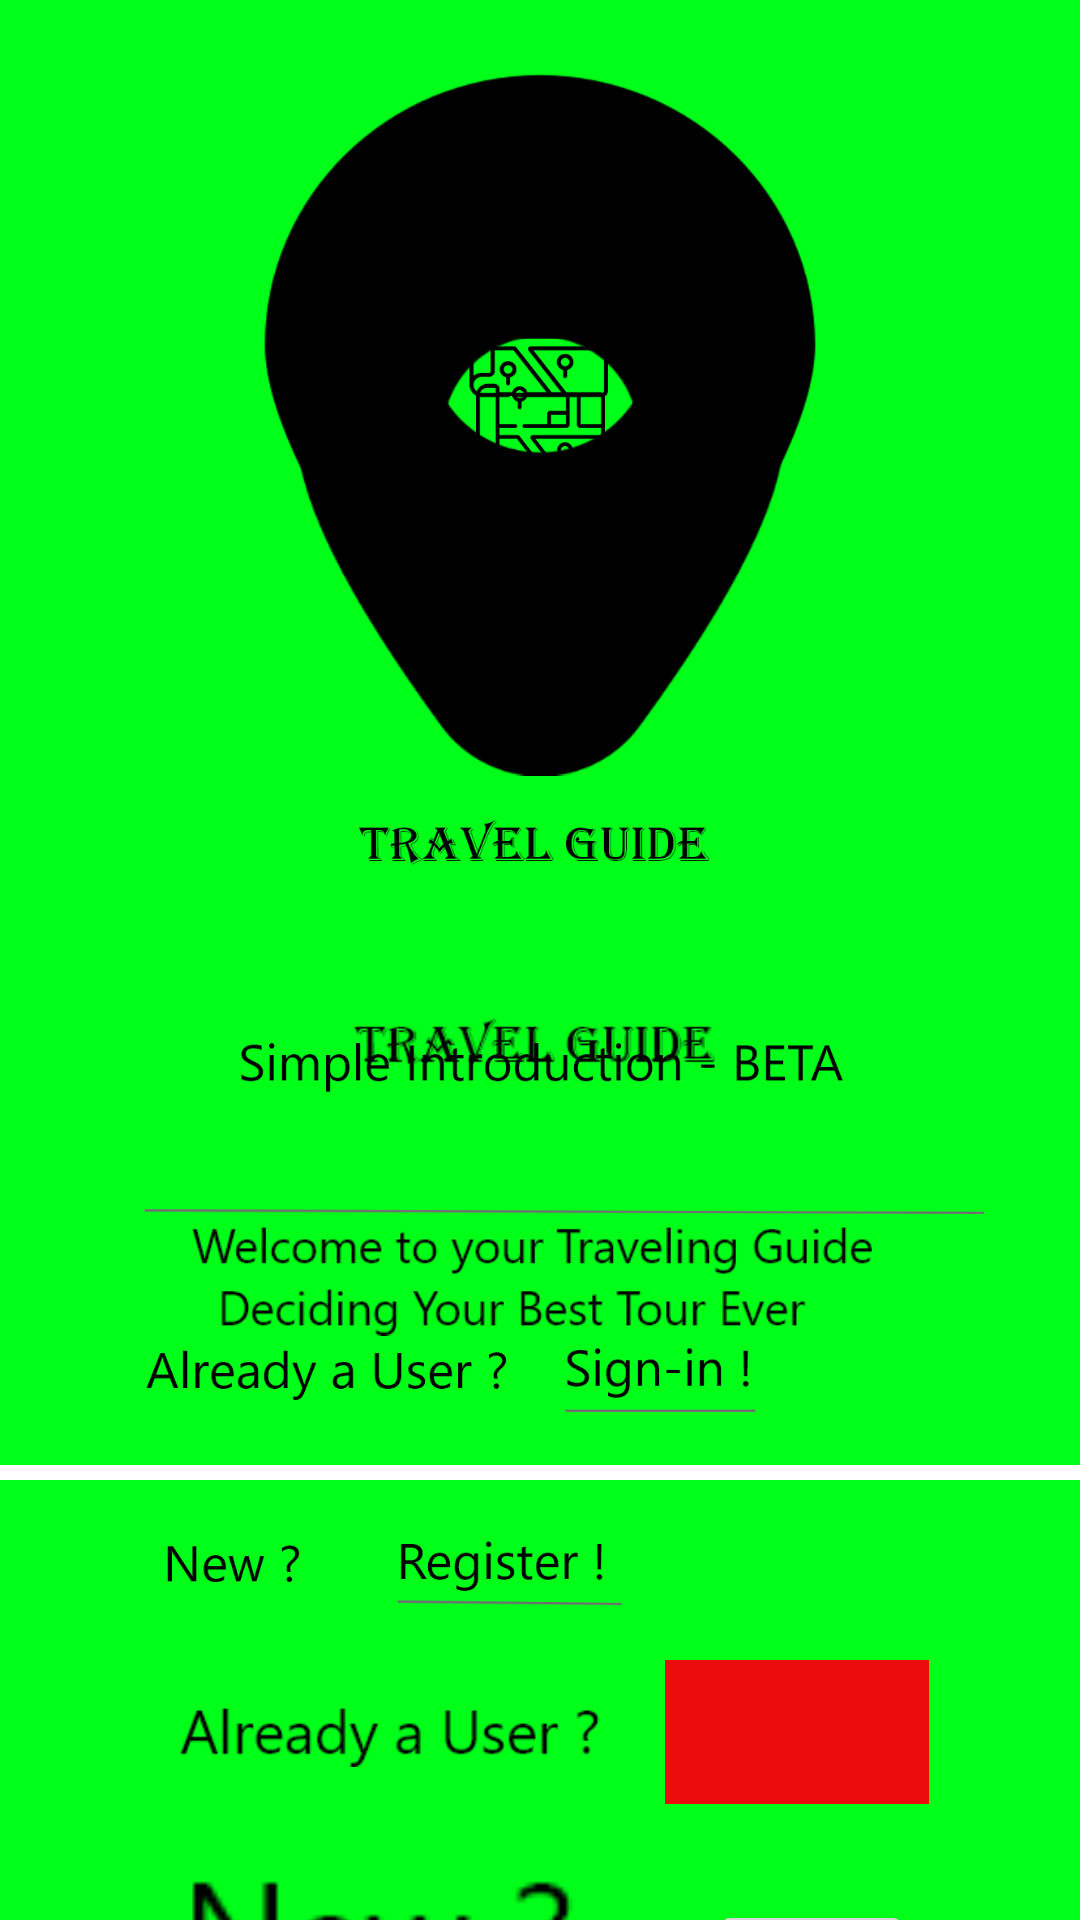

Screen size 1080x1920. Icon name, then its box in pixels as (x1, y1, x2, y2):
map: (479, 369, 602, 453)
